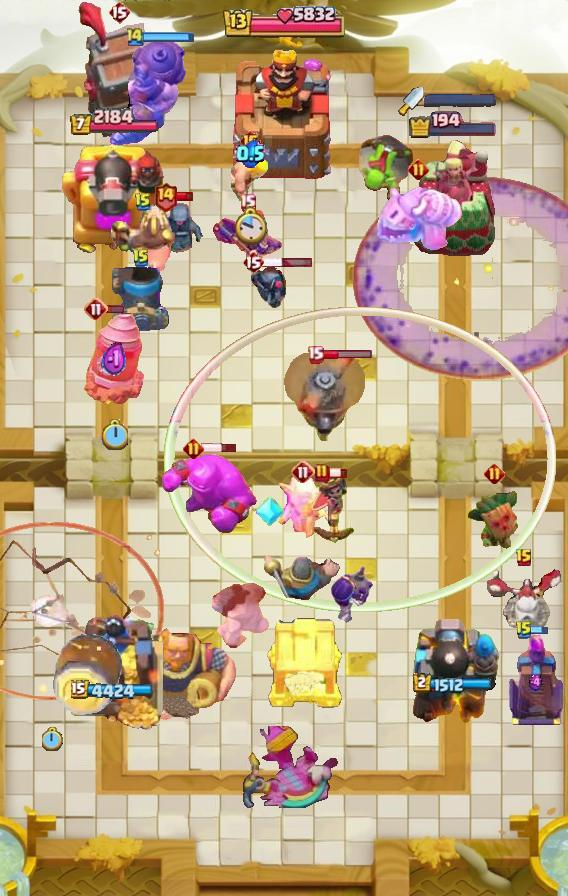archer: (229, 145, 271, 201)
bar: (409, 138, 497, 256)
bar-level: (356, 130, 416, 206)
battle-ram: (151, 201, 209, 269), (247, 265, 289, 309)
bomb: (265, 615, 345, 709)
bomber-evolution: (309, 469, 355, 549)
clock: (221, 3, 347, 43)
clone: (157, 451, 259, 535)
dark-prince: (279, 353, 373, 441)
dart-goblin: (77, 0, 161, 138)
dirt: (48, 632, 124, 716)
electro-spirit: (101, 341, 126, 379), (236, 140, 264, 168), (528, 674, 544, 691)
elixir: (233, 205, 267, 246), (100, 419, 127, 449), (41, 727, 62, 751)
emote: (143, 31, 195, 43), (261, 257, 313, 268), (322, 348, 374, 359), (201, 442, 239, 454), (328, 467, 348, 479), (175, 190, 194, 202), (531, 624, 549, 636), (106, 304, 125, 314)
firecracker: (259, 554, 345, 606)
freeze: (111, 204, 175, 278)
giant-skeleton: (122, 623, 238, 723)
goblin-ball: (331, 558, 375, 624)
goblin-barrel: (466, 488, 522, 552)
guard: (0, 523, 164, 702)
ice-spirit-evolution-symbol: (506, 635, 566, 727)
king-tower: (229, 43, 339, 181)
king-tower-bar: (424, 93, 496, 107)
magic-archer: (84, 311, 144, 405)
mini-pekka: (485, 568, 563, 630)
musketeer: (111, 267, 171, 331)
night-witch: (373, 182, 463, 254)
pad_2: (256, 494, 284, 528)
poison: (261, 473, 345, 545)
queen-tower: (62, 613, 165, 731)
rage: (205, 582, 271, 652)
rocket: (352, 176, 568, 380)
selected: (68, 108, 159, 137), (408, 111, 498, 139), (71, 680, 157, 702), (413, 673, 493, 695)
tesla-evolution: (211, 209, 283, 267)
text: (154, 181, 179, 211), (84, 297, 108, 321), (291, 460, 315, 484), (239, 129, 262, 153), (108, 0, 130, 24), (242, 250, 264, 274), (407, 159, 428, 181), (183, 437, 204, 459), (483, 463, 504, 485), (125, 26, 145, 47), (134, 192, 152, 212), (132, 248, 150, 268), (515, 548, 533, 568), (515, 620, 533, 640), (307, 344, 325, 363), (240, 192, 257, 211), (314, 463, 330, 483)
tower-bar: (60, 138, 168, 256), (406, 611, 500, 731)
wizard: (107, 34, 189, 148)
